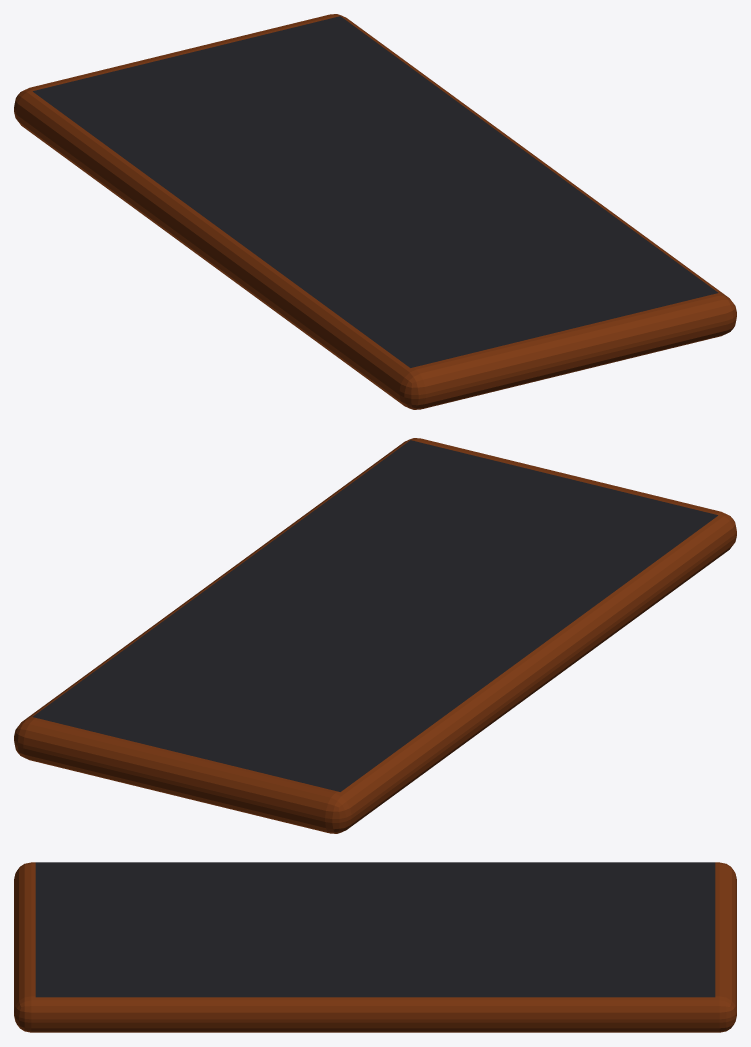
The model's file is iqoo-z-model-209-mid-range-2024.glb.
The picture shows the model from 3 angles, top to bottom: view 1: azimuth 30°, elevation 25°; view 2: azimuth 150°, elevation 25°; view 3: azimuth 270°, elevation 25°; orthographic projection. The views are drawn at different scales.
Visible parts, largest first — view 1: Phone_Screen, Phone_Body; view 2: Phone_Screen, Phone_Body; view 3: Phone_Screen, Phone_Body.
Part boxes in pixels (x1=…): Phone_Screen: x1=33, y1=16, x2=718, y2=367; Phone_Body: x1=14, y1=14, x2=736, y2=409; Phone_Screen: x1=32, y1=440, x2=717, y2=791; Phone_Body: x1=14, y1=438, x2=736, y2=833; Phone_Screen: x1=35, y1=862, x2=715, y2=997; Phone_Body: x1=14, y1=862, x2=736, y2=1032.
Size of the model in its own units: 0.0786 by 0.0088 by 0.1635.
